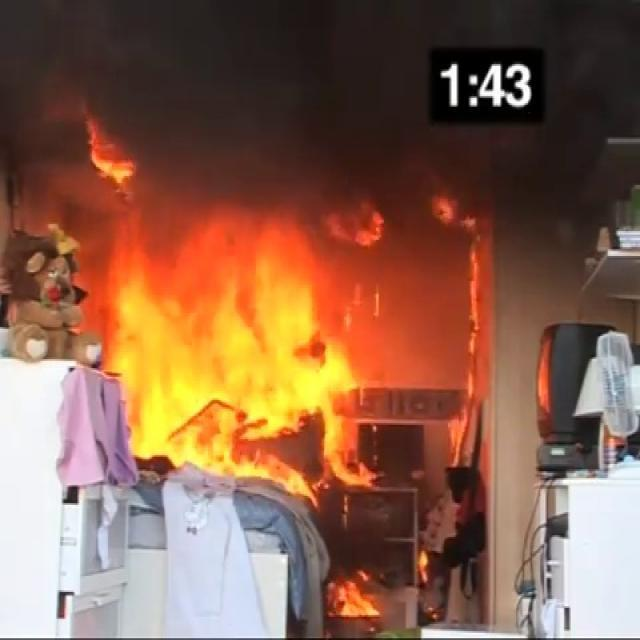Fire: (100, 197, 376, 490), (432, 183, 496, 464), (326, 564, 386, 640), (85, 117, 143, 186), (418, 544, 436, 592)
Smoke: (158, 13, 416, 181), (0, 0, 149, 82)
